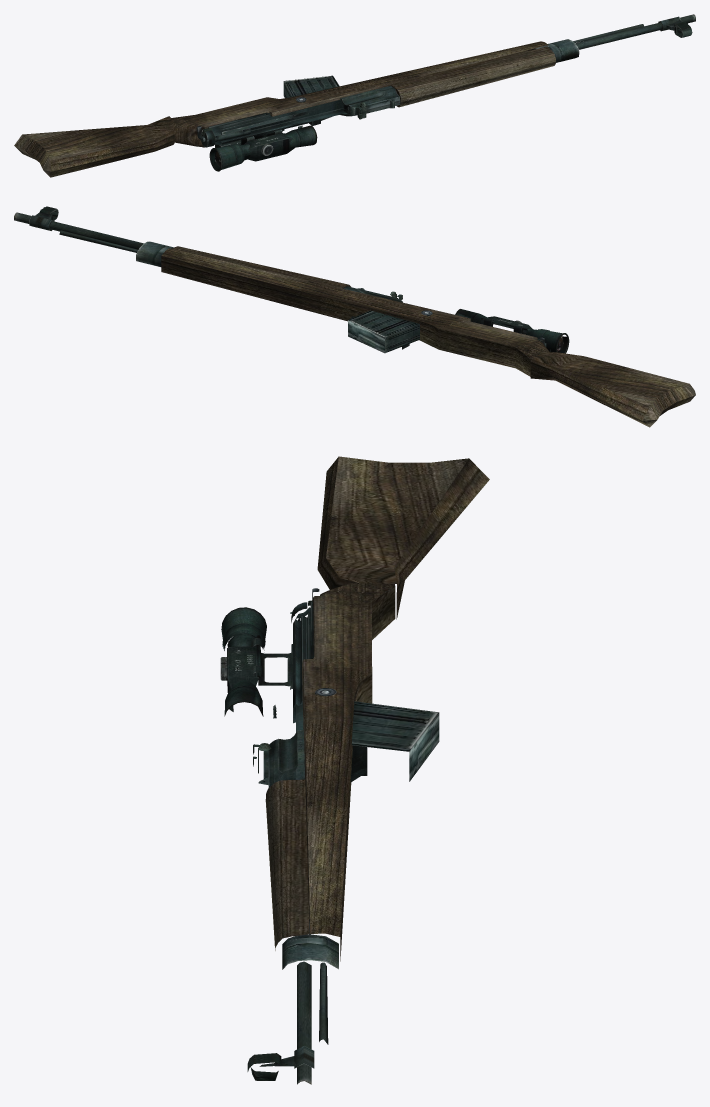
File: viewmodel_g43_sniper.glb
The picture shows the model from 3 angles, top to bottom: view 1: azimuth 30°, elevation 25°; view 2: azimuth 150°, elevation 25°; view 3: azimuth 270°, elevation 25°; orthographic projection. The views are drawn at different scales.
Size of the model in its own units: 49.4 by 2.4 by 9.
1 material, 1 textured.
